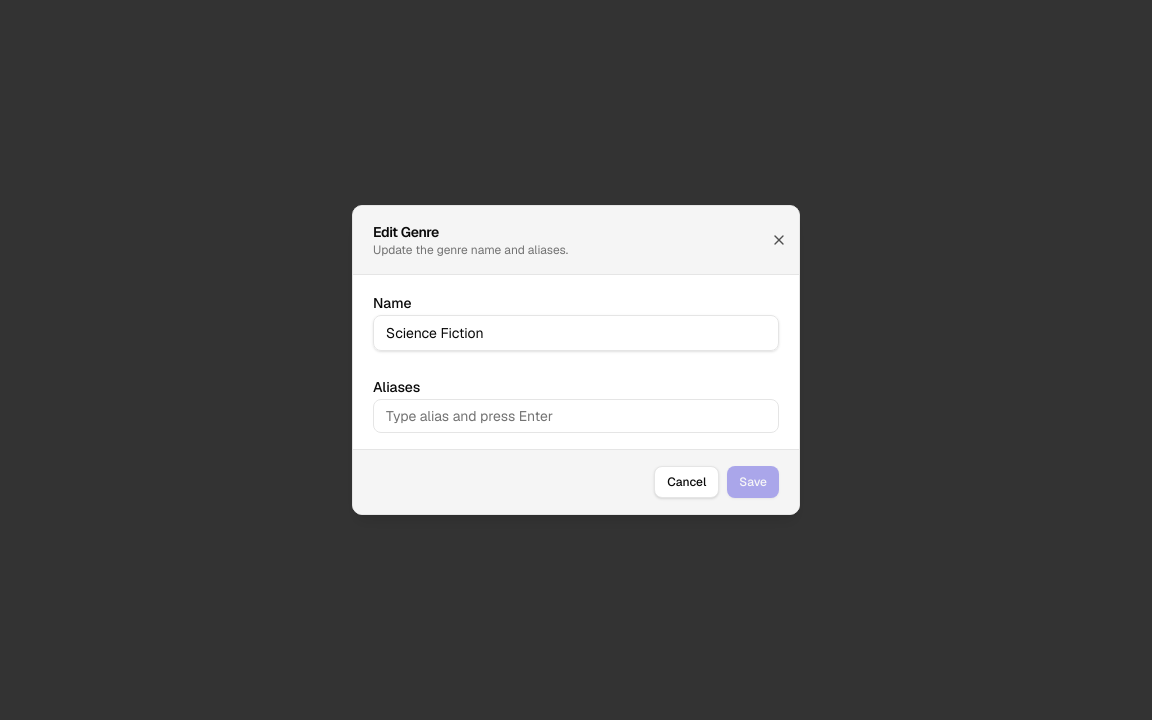
Scenario: MetadataEditDialog › alias management › should add alias when typing and pressing Enter
Expected: the field labelled "Name" is shown, top-left (373, 315), bottom-right (779, 351)
Type "Sci-Fi" into the field with placeholder "Type alias and press Enter" at (576, 416), box top-left (386, 406), bottom-right (766, 426)
Then press Enter
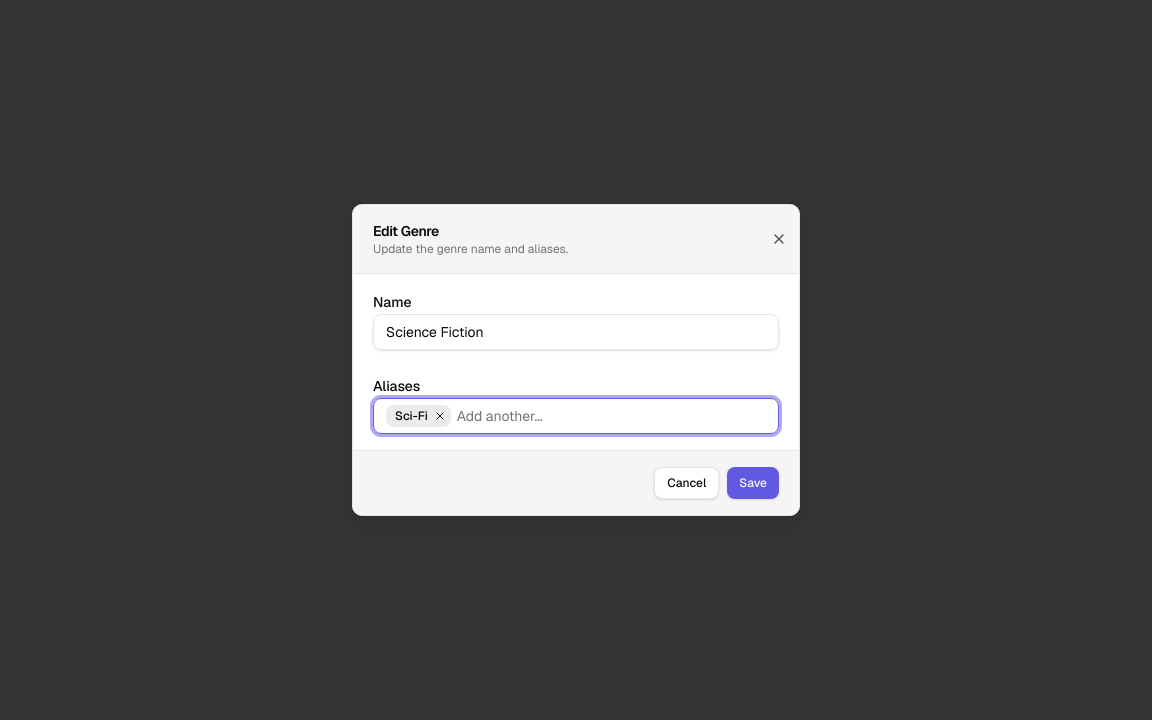
Expected: the field with placeholder "Type alias and press Enter" is empty, top-left (457, 405), bottom-right (766, 427)
Now the text "Sci-Fi" is shown, box top-left (395, 408), bottom-right (428, 424)
